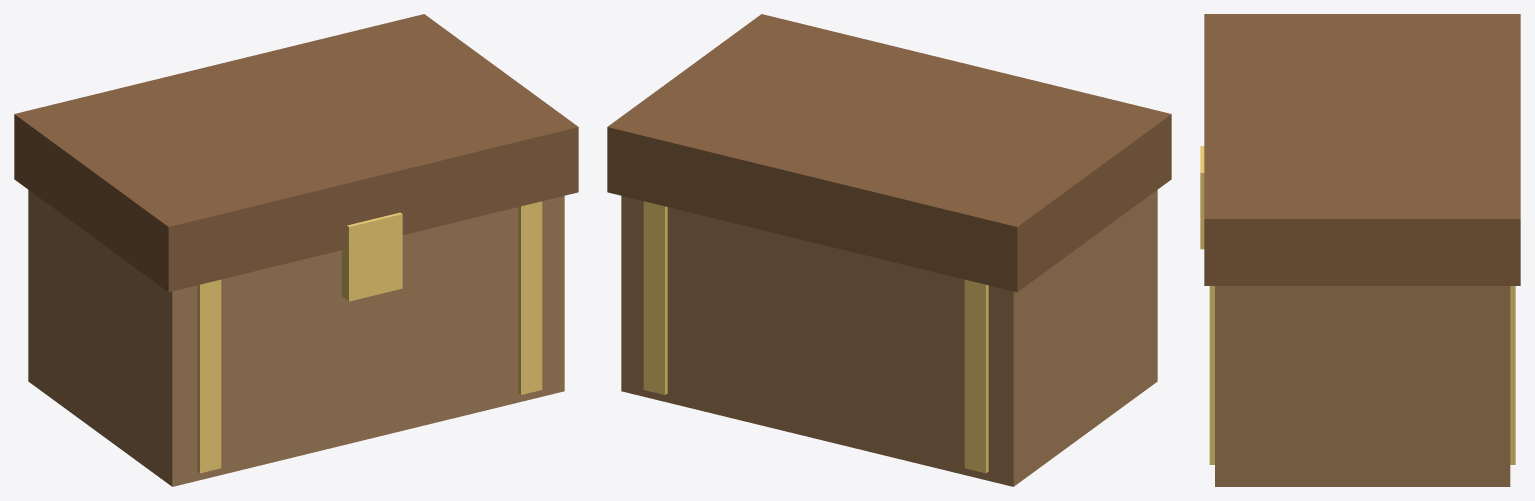
File: chest.glb
3 views of the same model, side by side, from view 1: azimuth 30°, elevation 25°; view 2: azimuth 150°, elevation 25°; view 3: azimuth 270°, elevation 25° (orthographic). The views are drawn at different scales.
Visible parts, largest first — view 1: chest.glb; view 2: chest.glb; view 3: chest.glb.
Part boxes in pixels (x1=…): chest.glb: x1=14, y1=14, x2=578, y2=486; chest.glb: x1=607, y1=14, x2=1171, y2=486; chest.glb: x1=1200, y1=14, x2=1520, y2=486.
Bounding box in the file's own units: 0.23 × 0.1425 × 0.152.
